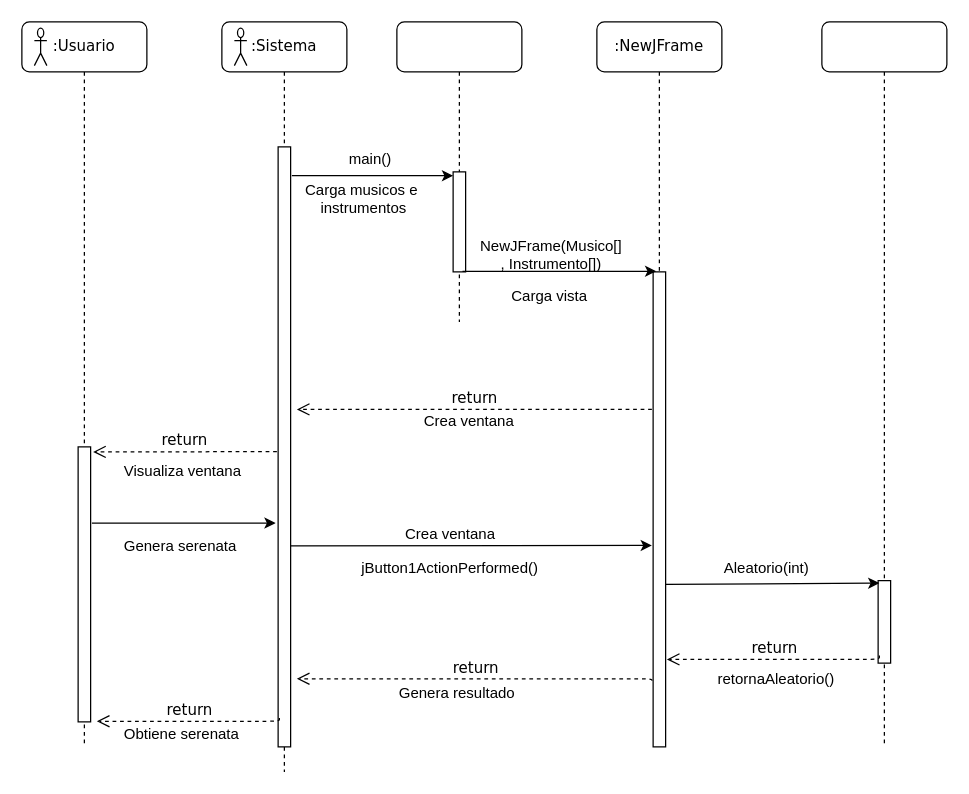
Some shapes in this 969 by 794 pixel diagram are drawn without their labels. Here are the shapes that lost their labels. From the top down, the box of each, then its label:
(396, 21, 522, 322): :DarSerenata
(821, 21, 947, 747): :Aleatorio
